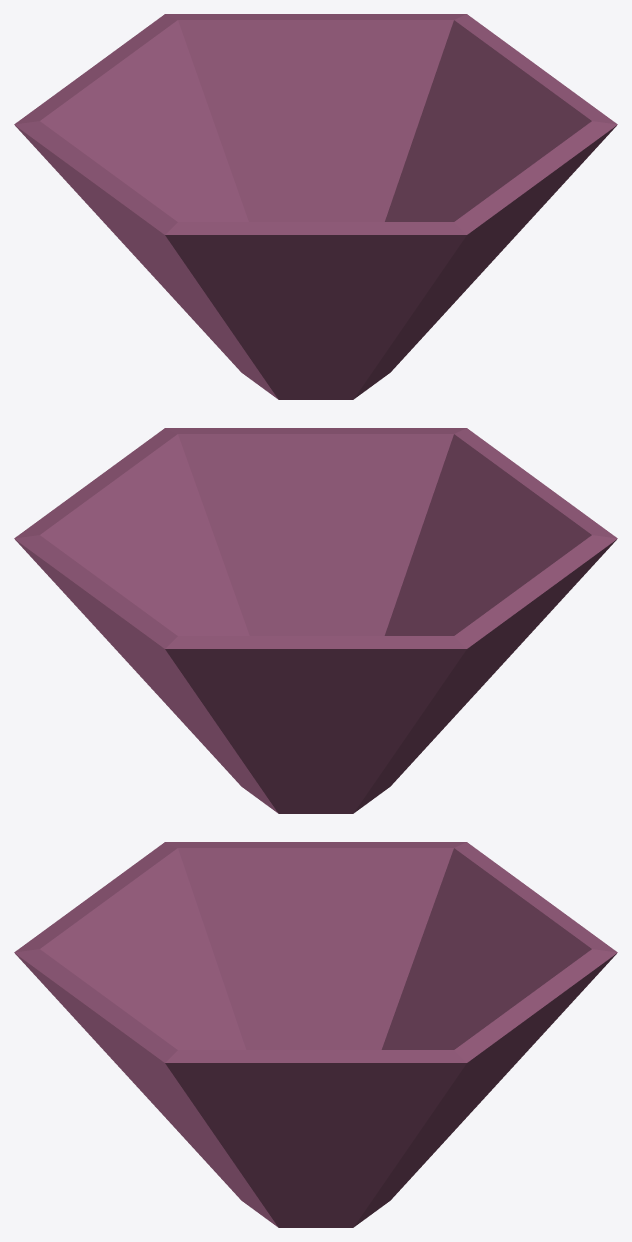
Rendered from Bowl.fbx.
3 views of the same model, one above another, from view 1: azimuth 30°, elevation 25°; view 2: azimuth 150°, elevation 25°; view 3: azimuth 270°, elevation 25° (orthographic).
Visible parts, largest first — view 1: Bowl; view 2: Bowl; view 3: Bowl.
Boxes of the visible parts, bbox=[...] form: Bowl: bbox=[14, 14, 617, 399]; Bowl: bbox=[14, 428, 617, 813]; Bowl: bbox=[14, 842, 617, 1227].
Bounding box in the file's own units: 0.3118 × 0.36 × 0.1655.
